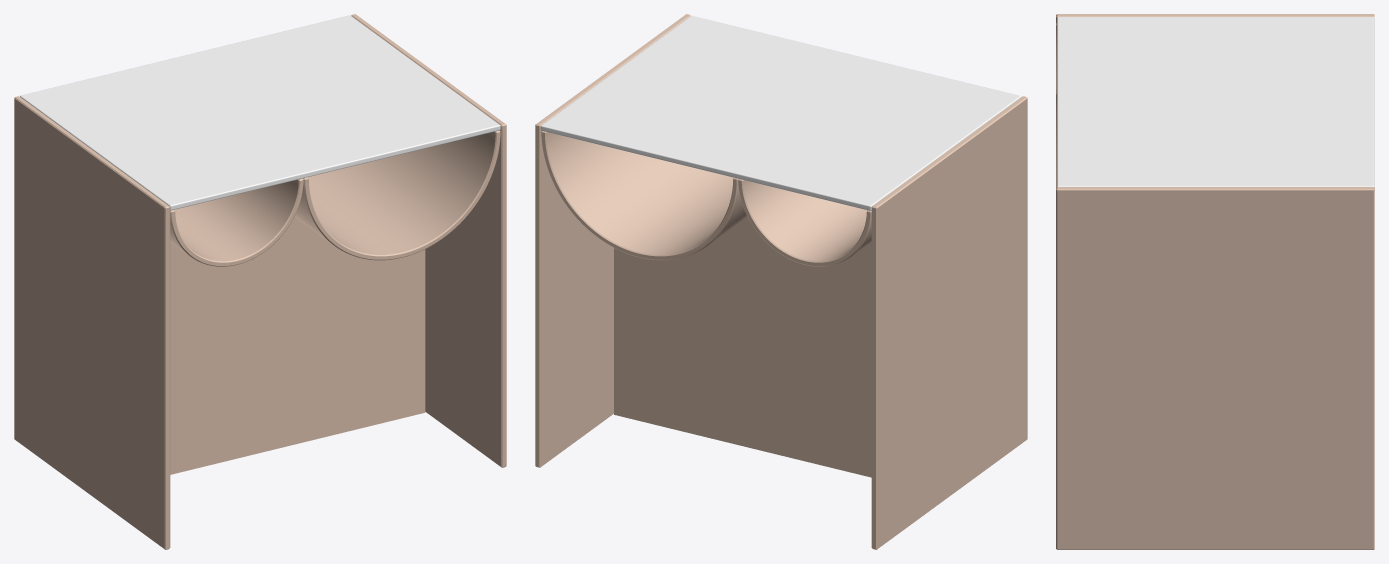
The model's file is minotti_bedSide_table.glb.
3 renders of one model, left to right at view 1: azimuth 30°, elevation 25°; view 2: azimuth 150°, elevation 25°; view 3: azimuth 270°, elevation 25°, orthographic. The views are drawn at different scales.
Visible parts, largest first — view 1: Minotti BedSide Table; view 2: Minotti BedSide Table; view 3: Minotti BedSide Table.
Boxes of the visible parts, box(x1,y1,x2,y2) form: Minotti BedSide Table: box(14, 14, 506, 549); Minotti BedSide Table: box(535, 14, 1027, 549); Minotti BedSide Table: box(1056, 14, 1374, 549).
Size of the model in its own units: 0.529 by 0.5067 by 0.4055.
